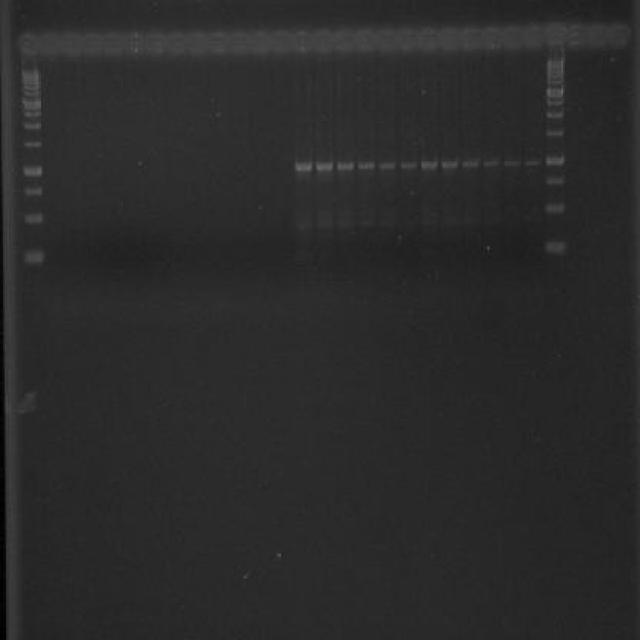B: (439, 154, 459, 172), (295, 157, 314, 174), (315, 157, 334, 172), (502, 154, 522, 168), (460, 156, 480, 170), (377, 158, 397, 171), (400, 156, 418, 170), (357, 157, 375, 171), (420, 157, 438, 171), (336, 158, 354, 172), (482, 156, 500, 169), (314, 219, 334, 230), (522, 157, 541, 168), (356, 218, 373, 230), (294, 219, 312, 230), (336, 219, 354, 230), (380, 220, 396, 229)
M: (9, 17, 638, 63), (16, 32, 50, 276), (542, 20, 570, 263)
P: (20, 246, 48, 268), (544, 239, 567, 256), (22, 162, 42, 180), (22, 212, 44, 228), (544, 200, 567, 214), (20, 136, 42, 150), (544, 154, 566, 168), (544, 175, 566, 188), (546, 54, 566, 68), (22, 97, 41, 111), (20, 120, 42, 132), (23, 186, 43, 199), (546, 85, 565, 98), (22, 68, 40, 81), (544, 108, 564, 119), (546, 128, 566, 138), (546, 98, 565, 107), (22, 110, 42, 118), (546, 78, 565, 85), (546, 68, 566, 74), (22, 90, 41, 96), (22, 85, 41, 90), (22, 81, 41, 85), (546, 74, 565, 78)
Pc: (608, 22, 634, 49), (186, 27, 208, 58), (228, 26, 250, 57), (418, 27, 440, 58), (164, 30, 187, 59), (206, 28, 228, 58), (270, 28, 292, 58), (334, 26, 356, 56), (398, 26, 420, 56), (438, 26, 460, 56), (249, 28, 271, 57), (312, 28, 334, 57), (586, 21, 608, 50), (376, 27, 398, 55), (566, 23, 588, 51), (104, 30, 125, 59), (292, 28, 312, 58), (82, 31, 104, 58), (124, 30, 144, 59), (482, 24, 502, 53), (17, 32, 40, 57), (60, 32, 82, 58), (523, 22, 545, 48), (356, 26, 376, 54), (462, 25, 482, 53), (502, 24, 522, 52), (146, 31, 166, 58), (544, 22, 566, 46), (41, 32, 61, 57)
